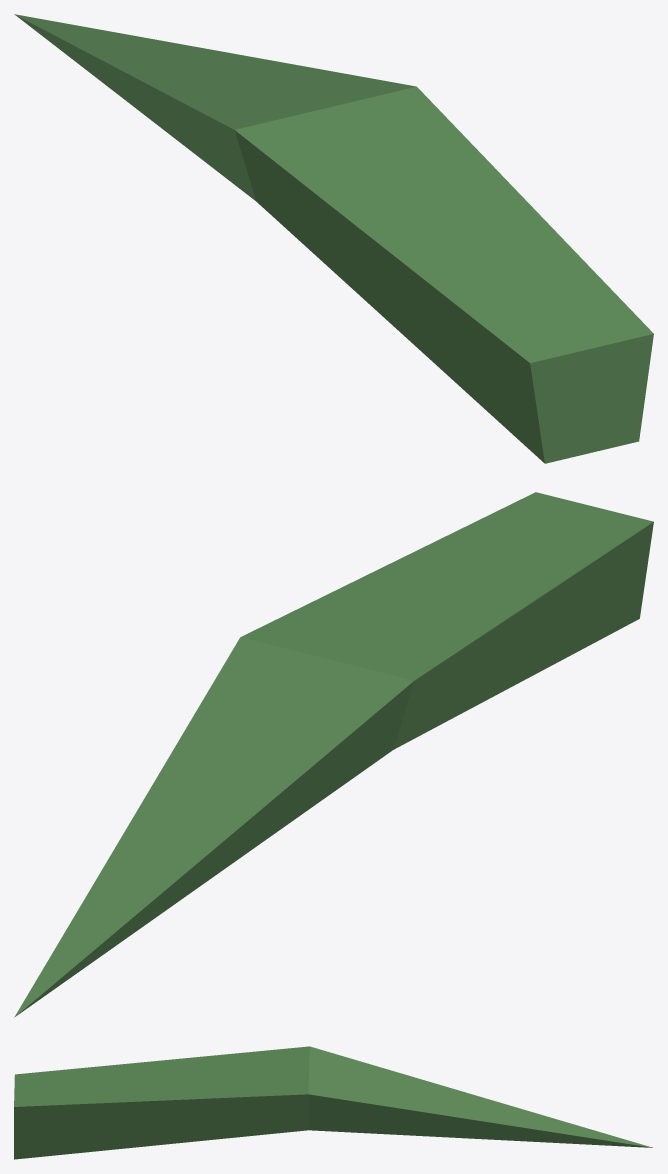
3 renders of one model, top to bottom at view 1: azimuth 30°, elevation 25°; view 2: azimuth 150°, elevation 25°; view 3: azimuth 270°, elevation 25°, orthographic. The views are drawn at different scales.
Visible parts, largest first — view 1: bamboo-leaf7; view 2: bamboo-leaf7; view 3: bamboo-leaf7.
Boxes of the visible parts, box(x1,y1,x2,y2) form: bamboo-leaf7: box(14, 14, 653, 463); bamboo-leaf7: box(14, 492, 653, 1017); bamboo-leaf7: box(14, 1046, 652, 1159).
Bounding box in the file's own units: 3.1 × 2.36 × 17.48.
